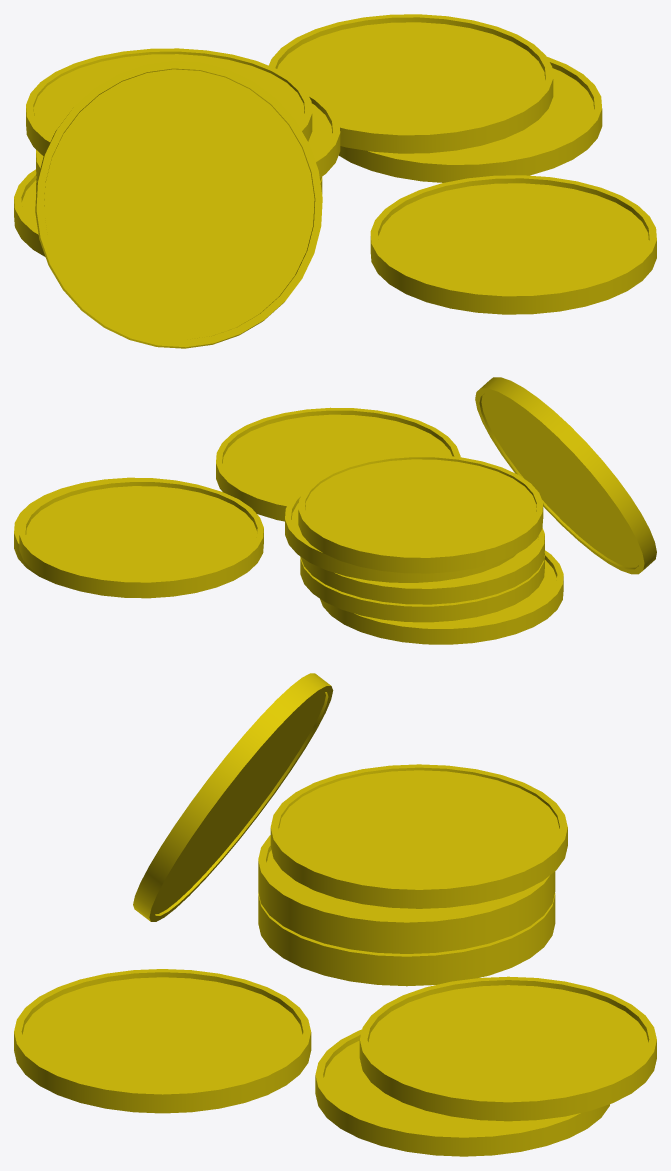
The model's file is Pile_Of_Coins1.fbx.
3 renders of one model, top to bottom at view 1: azimuth 30°, elevation 25°; view 2: azimuth 150°, elevation 25°; view 3: azimuth 270°, elevation 25°, orthographic. The views are drawn at different scales.
Visible parts, largest first — view 1: Circle.010, Circle.008, Circle.007, Circle.006, Circle, Circle.002, Circle.005; view 2: Circle, Circle.007, Circle.010, Circle.008, Circle.005, Circle.003, Circle.004, Circle.002, Circle.006; view 3: Circle.007, Circle, Circle.008, Circle.010, Circle.006, Circle.002, Circle.004, Circle.003, Circle.005.
Boxes of the visible parts, x1,y1,x2,y2 form: Circle.010: [35, 61, 322, 348]; Circle.008: [370, 175, 656, 314]; Circle.007: [269, 14, 553, 153]; Circle.006: [338, 57, 602, 182]; Circle: [26, 48, 312, 155]; Circle.002: [304, 88, 340, 177]; Circle.005: [14, 169, 45, 256]; Circle: [298, 454, 543, 573]; Circle.007: [19, 479, 263, 598]; Circle.010: [475, 377, 656, 574]; Circle.008: [216, 407, 460, 521]; Circle.005: [320, 550, 563, 644]; Circle.003: [300, 528, 544, 604]; Circle.004: [300, 551, 544, 622]; Circle.002: [285, 485, 516, 582]; Circle.006: [14, 477, 200, 588]; Circle.007: [359, 976, 656, 1121]; Circle: [270, 764, 567, 908]; Circle.008: [14, 969, 311, 1113]; Circle.010: [133, 673, 333, 921]; Circle.006: [315, 1029, 609, 1156]; Circle.002: [258, 835, 555, 941]; Circle.004: [258, 893, 555, 975]; Circle.003: [258, 880, 555, 953]; Circle.005: [258, 914, 555, 986].
Bounding box in the file's own units: 46.89 × 16.69 × 39.79.
